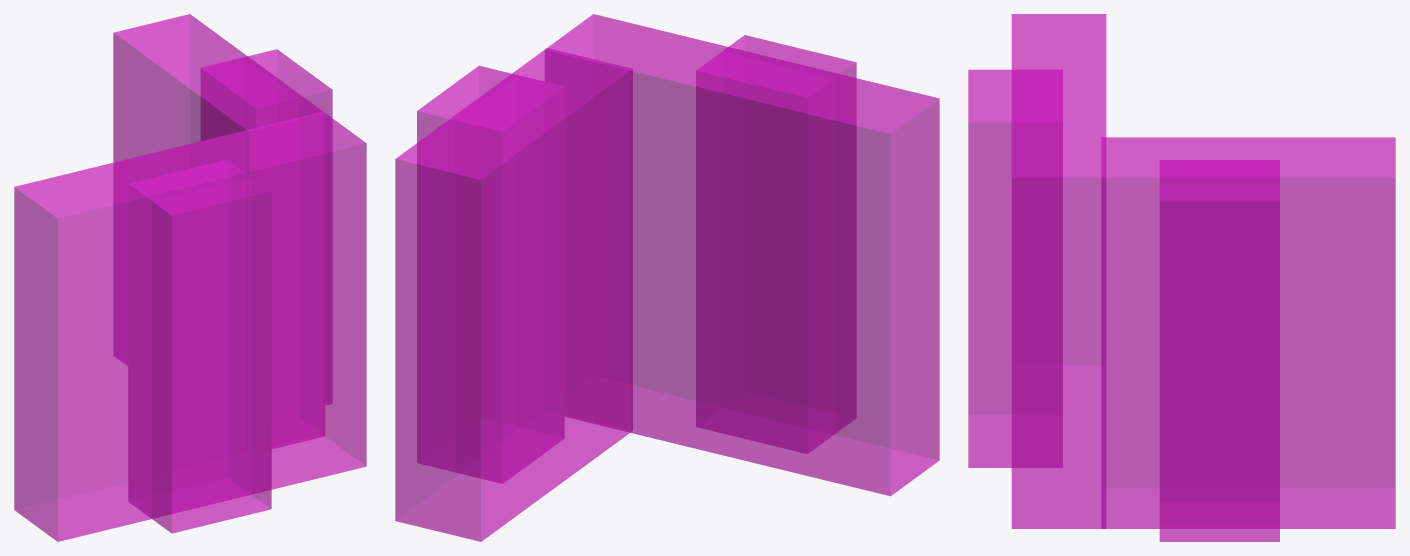
File: SM_Bld_Wall_L_Corner_Half_01_Collision.fbx
The picture shows the model from 3 angles, left to right: view 1: azimuth 30°, elevation 25°; view 2: azimuth 150°, elevation 25°; view 3: azimuth 270°, elevation 25°; orthographic projection. The views are drawn at different scales.
Visible parts, largest first — view 1: SM_Bld_Wall_L_Corner_Half_01_Collision; view 2: SM_Bld_Wall_L_Corner_Half_01_Collision; view 3: SM_Bld_Wall_L_Corner_Half_01_Collision.
Boxes of the visible parts, x1,y1,x2,y2 form: SM_Bld_Wall_L_Corner_Half_01_Collision: (14, 14, 366, 541); SM_Bld_Wall_L_Corner_Half_01_Collision: (395, 14, 939, 541); SM_Bld_Wall_L_Corner_Half_01_Collision: (968, 14, 1395, 541).
Bounding box in the file's own units: 337 × 304 × 335.
